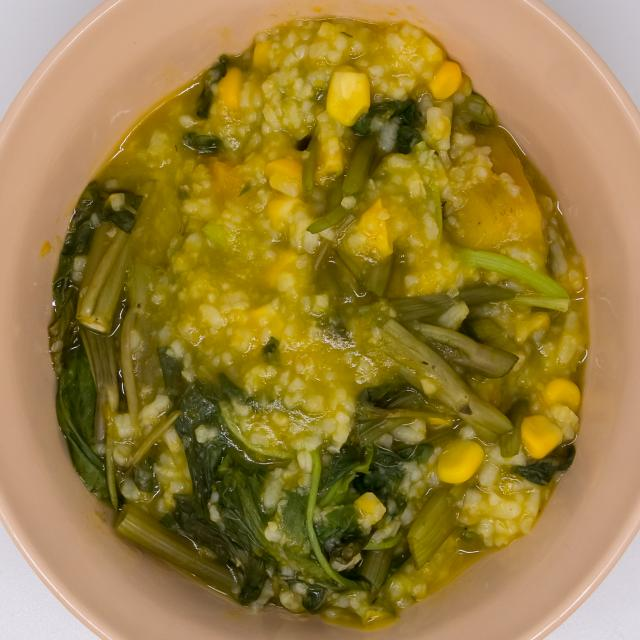Bubur-Manado: (43, 4, 597, 632)
